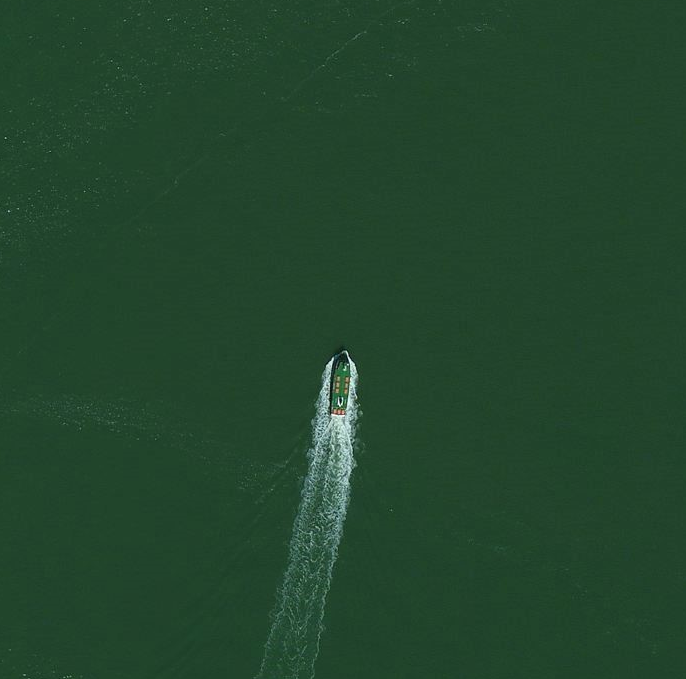ship: (320, 346, 365, 424)
